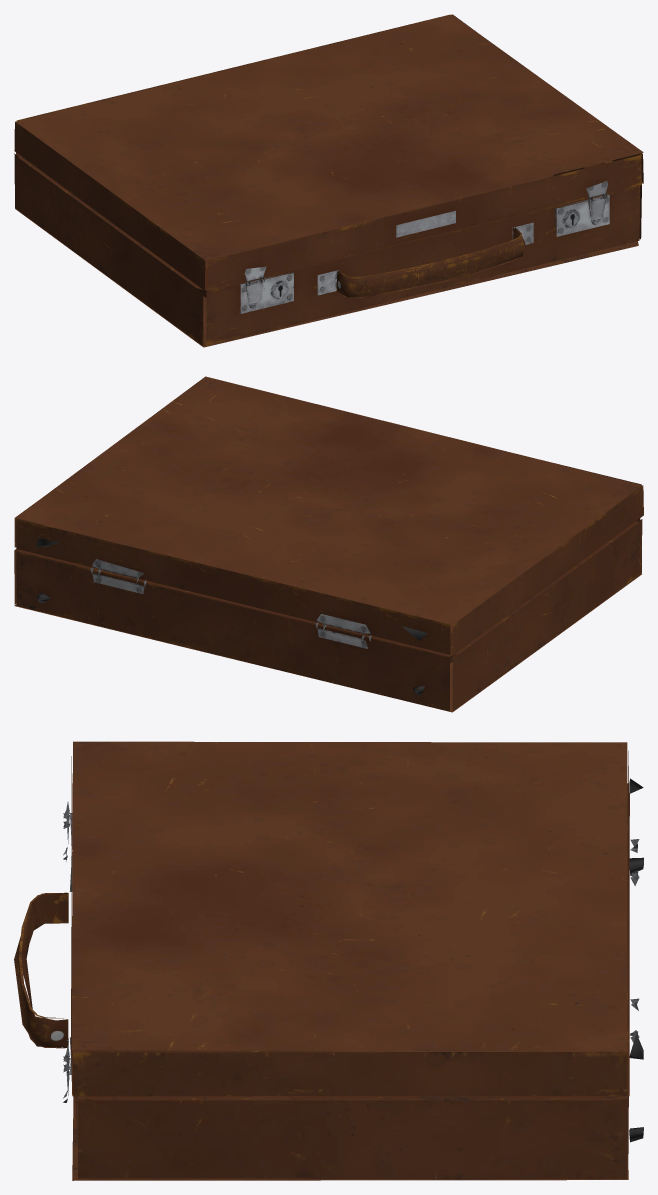
3 renders of one model, top to bottom at view 1: azimuth 30°, elevation 25°; view 2: azimuth 150°, elevation 25°; view 3: azimuth 270°, elevation 25°, orthographic. The views are drawn at different scales.
Parts seen in each view (by area): view 1: TapaSuperior_LP.001, TapaInferior_LP.001, Maneta_LP.001, Hierro1_LP.001, PlaquitaNombre_LP.001, SoporteManeta_LP.001, Mecanismo4_LP.001, Mecanismo3_LP.001; view 2: TapaSuperior_LP.001, TapaInferior_LP.001, Mecanismo1_LP.001, Mecanismo2_LP.001; view 3: TapaSuperior_LP.001, TapaInferior_LP.001, Maneta_LP.001, TopesGoma_LP.001.
Part boxes in pixels (left/top/right/bottom): TapaSuperior_LP.001: left=14, top=14, right=643, bottom=297; TapaInferior_LP.001: left=14, top=152, right=641, bottom=347; Maneta_LP.001: left=336, top=227, right=525, bottom=297; Hierro1_LP.001: left=239, top=194, right=609, bottom=313; PlaquitaNombre_LP.001: left=396, top=210, right=455, bottom=237; SoporteManeta_LP.001: left=317, top=222, right=533, bottom=295; Mecanismo4_LP.001: left=245, top=195, right=606, bottom=308; Mecanismo3_LP.001: left=244, top=181, right=607, bottom=285; TapaSuperior_LP.001: left=14, top=376, right=643, bottom=663; TapaInferior_LP.001: left=14, top=510, right=642, bottom=712; Mecanismo1_LP.001: left=90, top=559, right=371, bottom=641; Mecanismo2_LP.001: left=92, top=569, right=367, bottom=648; TapaSuperior_LP.001: left=71, top=741, right=629, bottom=1099; TapaInferior_LP.001: left=72, top=793, right=629, bottom=1180; Maneta_LP.001: left=14, top=892, right=68, bottom=1048; TopesGoma_LP.001: left=629, top=778, right=643, bottom=1142.
Bounding box in the file's own units: 39.97 × 7.98 × 33.97.
Materials: 1 (1 with a texture image).
